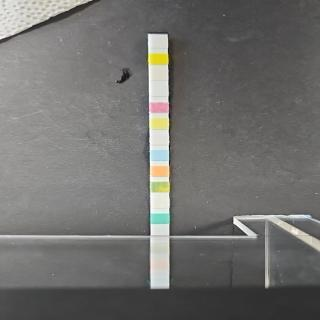mark: (149, 52, 168, 64), (151, 36, 167, 50), (151, 164, 168, 177), (151, 181, 169, 193), (150, 150, 168, 162), (150, 134, 168, 146), (150, 116, 168, 128), (150, 101, 168, 113), (150, 68, 168, 80), (150, 85, 168, 96), (152, 212, 168, 224), (152, 197, 168, 208)
